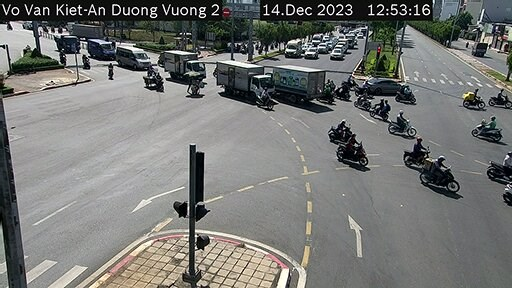car: (113, 45, 156, 72), (90, 37, 121, 67), (360, 76, 414, 93)
motorbike: (416, 148, 461, 193), (397, 137, 434, 166), (339, 131, 365, 170), (387, 112, 419, 139), (327, 114, 353, 139), (475, 117, 501, 142), (251, 88, 275, 113), (371, 97, 393, 123), (460, 89, 478, 109)
truck: (210, 59, 276, 100), (153, 40, 209, 87), (270, 55, 325, 99), (47, 37, 94, 49)
